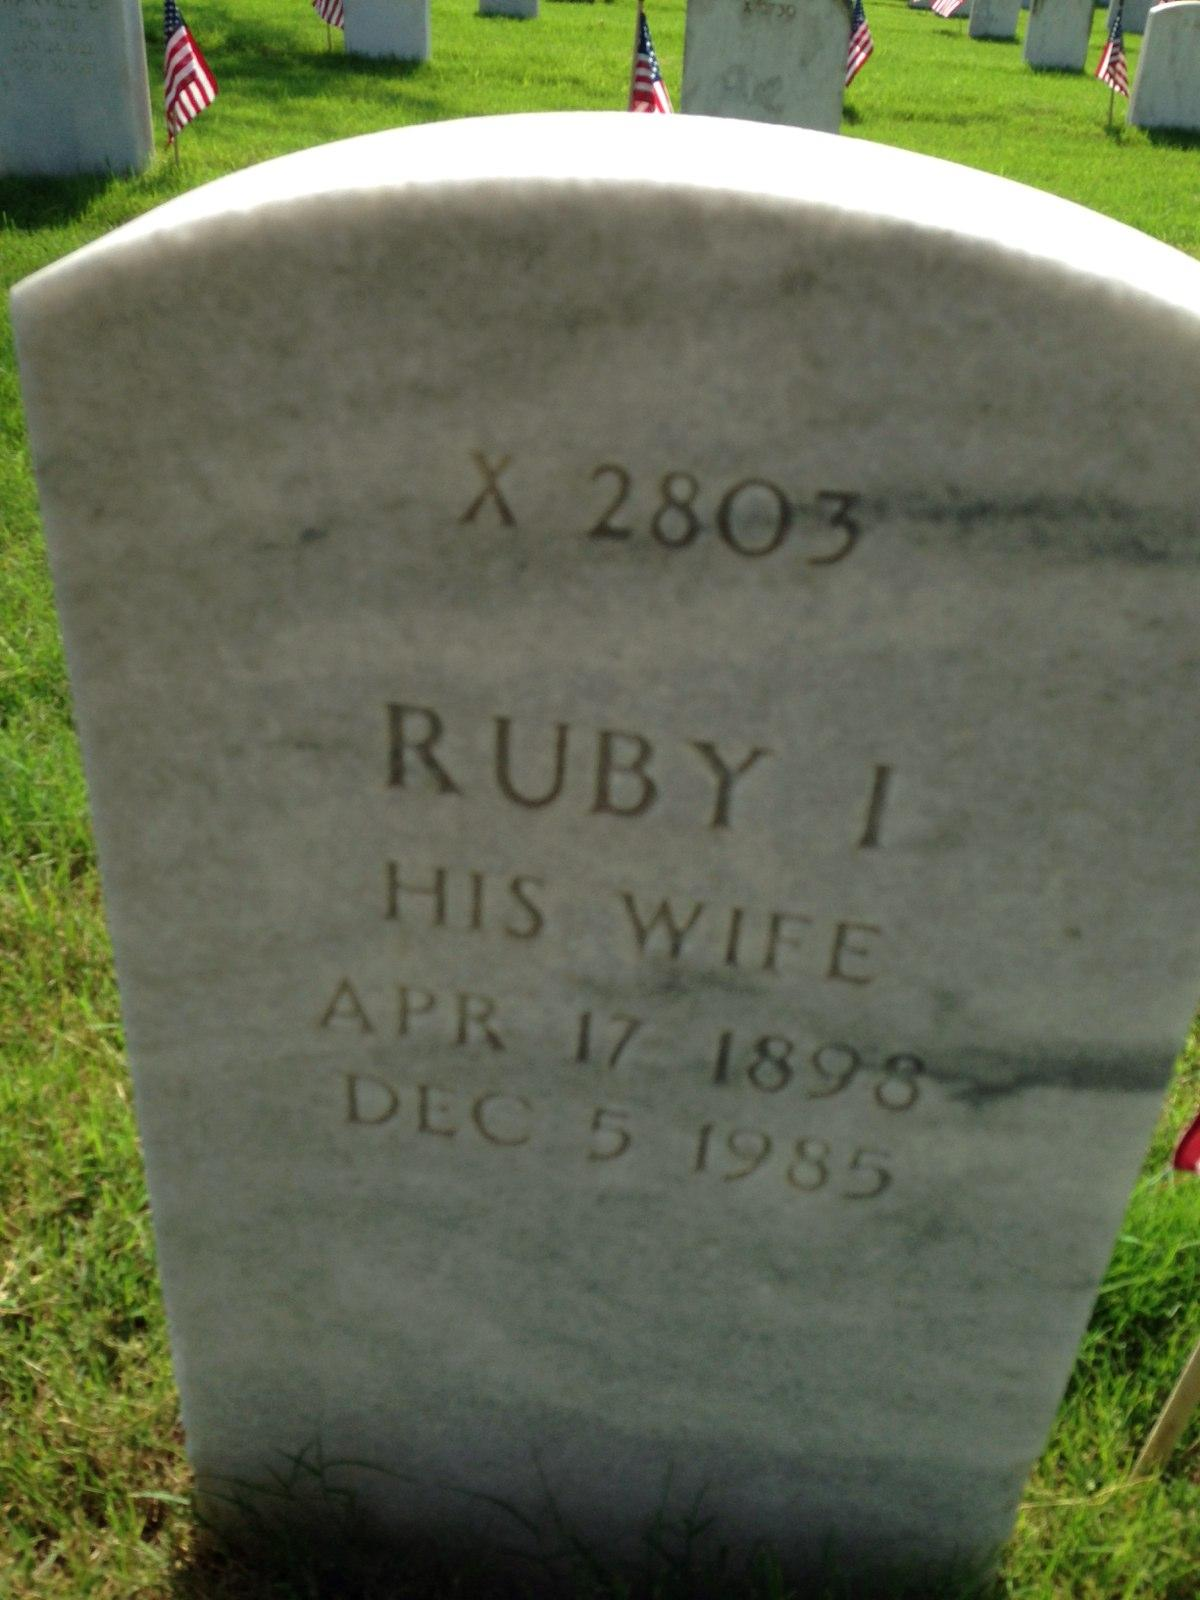military: (14, 16, 1197, 1587)
